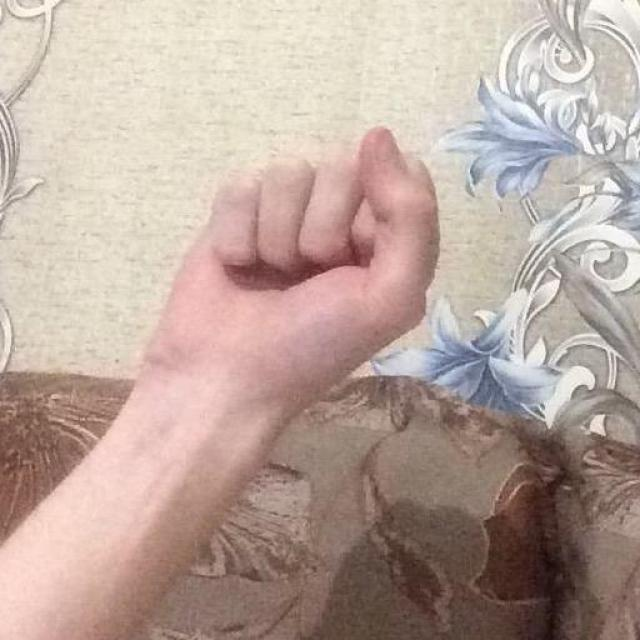hand: (141, 124, 441, 421)
